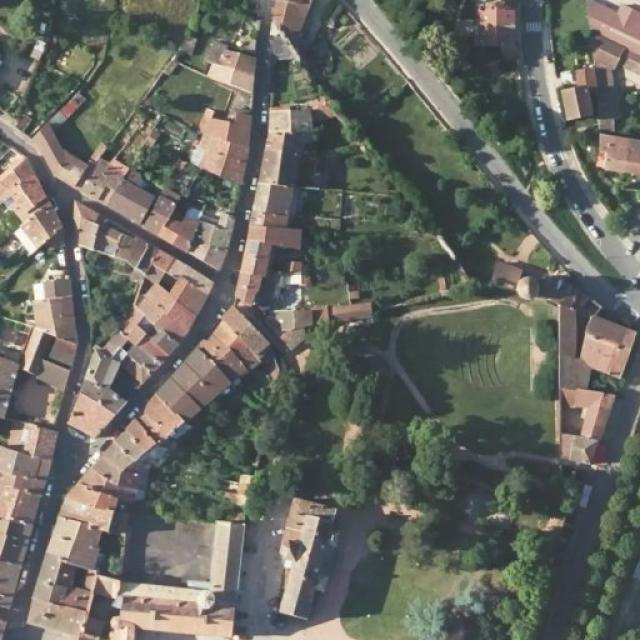immeuble: (66, 328, 159, 423), (279, 487, 336, 613), (142, 194, 237, 269), (27, 543, 97, 631), (46, 488, 113, 568), (197, 308, 272, 376), (152, 352, 223, 422), (0, 474, 40, 590), (90, 418, 164, 480), (134, 262, 195, 336), (0, 416, 64, 484), (0, 145, 53, 220), (258, 106, 322, 164), (138, 378, 200, 436), (240, 204, 304, 258), (65, 457, 136, 505), (30, 271, 80, 338), (14, 197, 67, 258), (235, 249, 303, 292), (252, 159, 298, 219), (76, 153, 125, 207), (105, 179, 156, 223), (0, 585, 5, 640)
maison: (189, 106, 256, 186), (265, 281, 370, 330), (196, 42, 264, 98), (557, 62, 602, 125), (589, 128, 640, 174), (272, 0, 316, 31), (477, 0, 518, 29)
villa: (397, 290, 634, 471), (106, 512, 243, 638)
